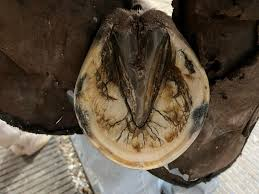horsesole: (74, 25, 210, 170)
